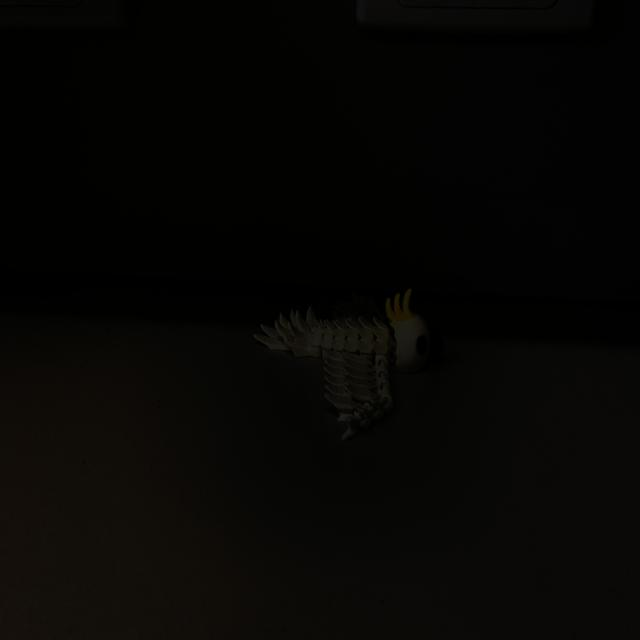cockatoo: (251, 284, 433, 442)
